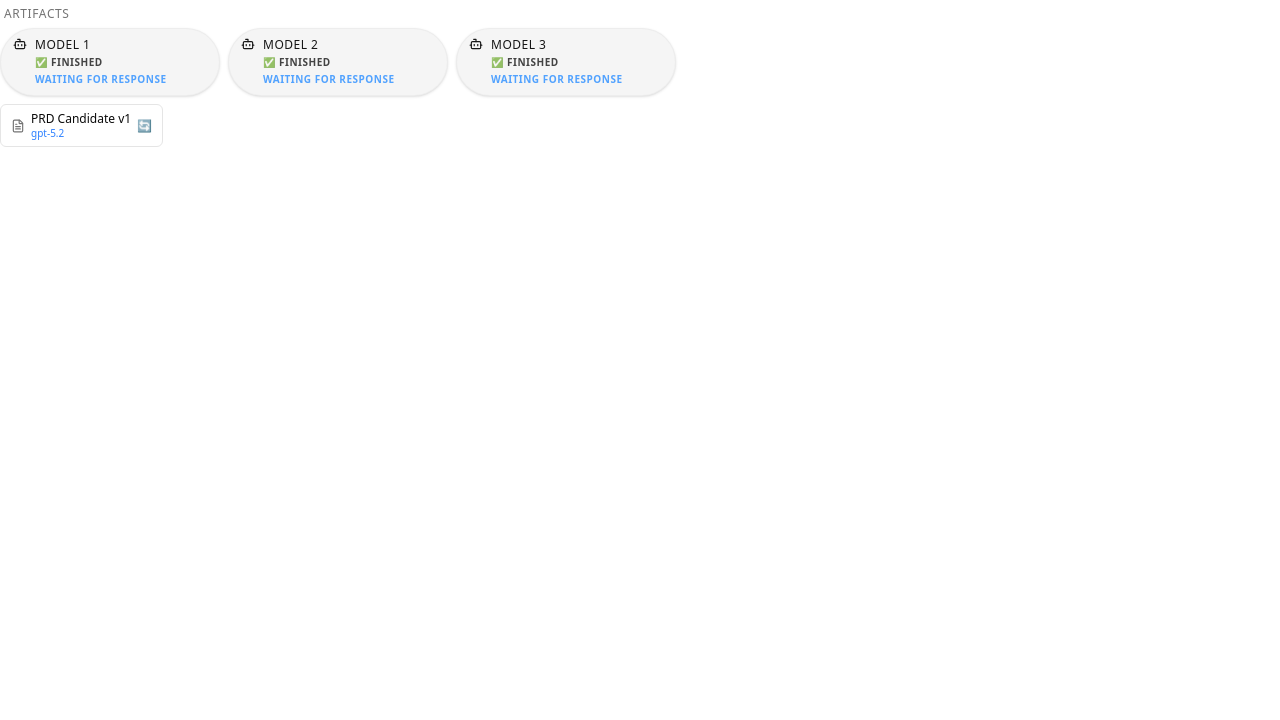
PhaseArtifactsPanel › shows no-source badges in generic refinement diff views
This screenshot has width=1280, height=720.
Click the button "PRD Candidate v1 gpt-5.2 🔄" at {"x": 82, "y": 126}, box [0,104,163,147]
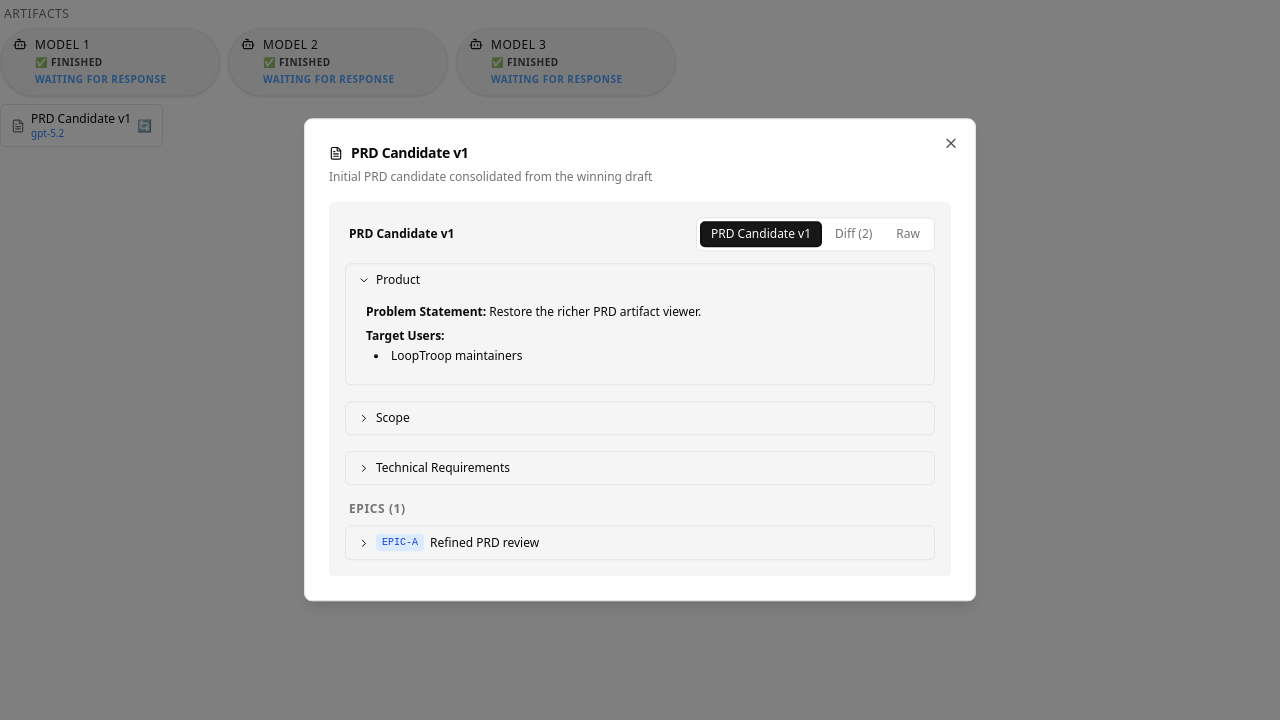
Click the button "Diff (2)" at {"x": 854, "y": 234}, box [825,222,882,246]
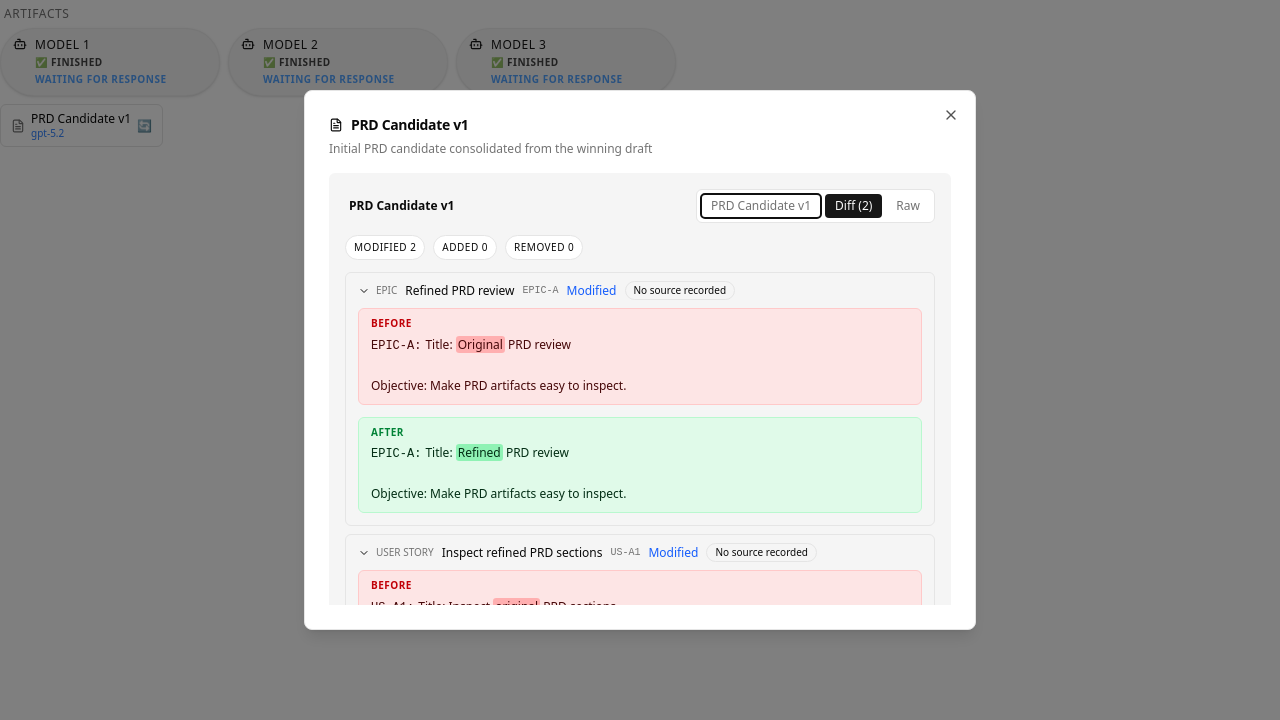
Expected: the text "Modified 2" is shown, [345,235,425,260]
Expected: the text "No source recorded" is shown 2 times, [624,281,735,300]; [706,543,817,562]
